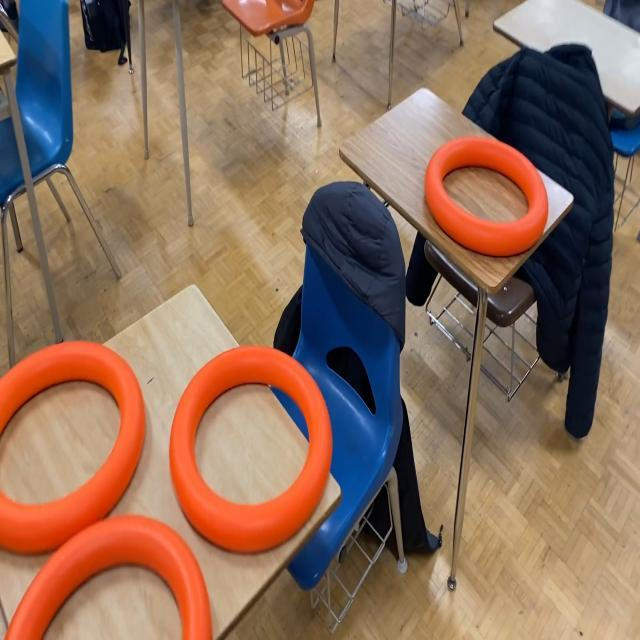note: (170, 344, 331, 558), (0, 338, 147, 554), (2, 513, 212, 640), (424, 132, 550, 258)
